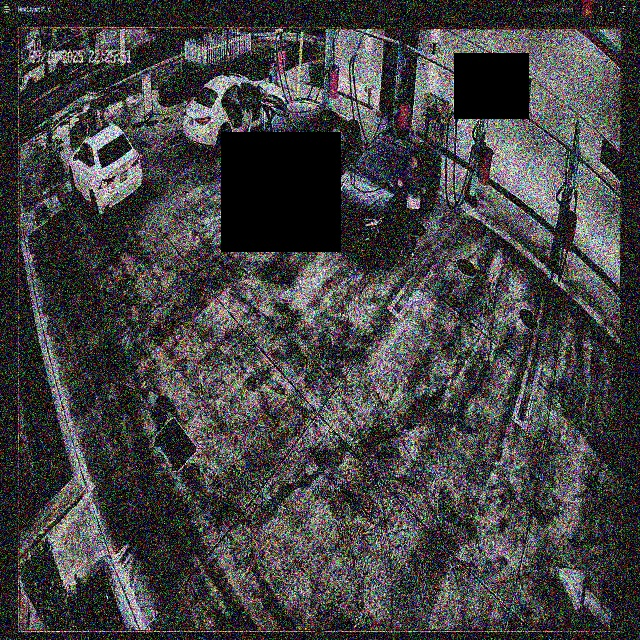Car: (341, 136, 442, 252), (257, 85, 364, 190), (183, 76, 286, 156), (68, 126, 144, 215)
